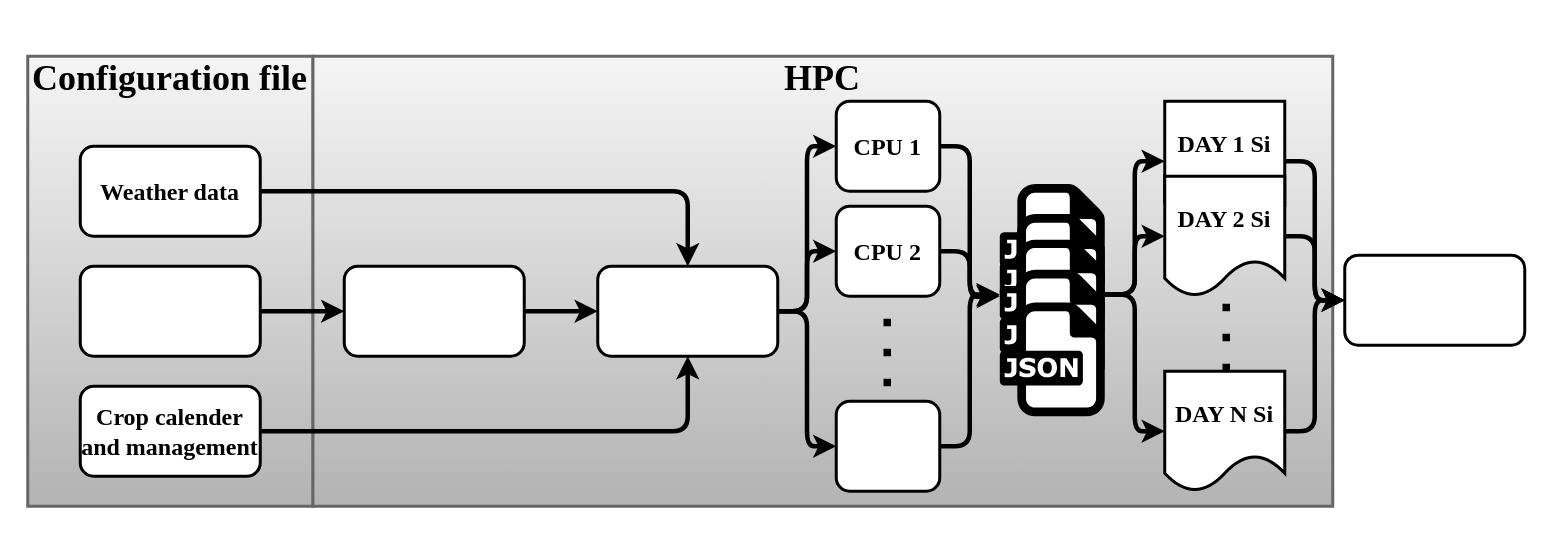
The diagram is 1551 pixels wide and 533 high, and some of its shapes have lost their labels. Here are the shapes that lost their labels. From the top down, the centre of each, then its label:
the point at 169,310: Parameter names and ranges
the point at 433,310: Parameter sets
the point at 687,310: Simulaiton 1, 2,..., n
the point at 1434,299: Report
the point at 887,445: CPU 64
